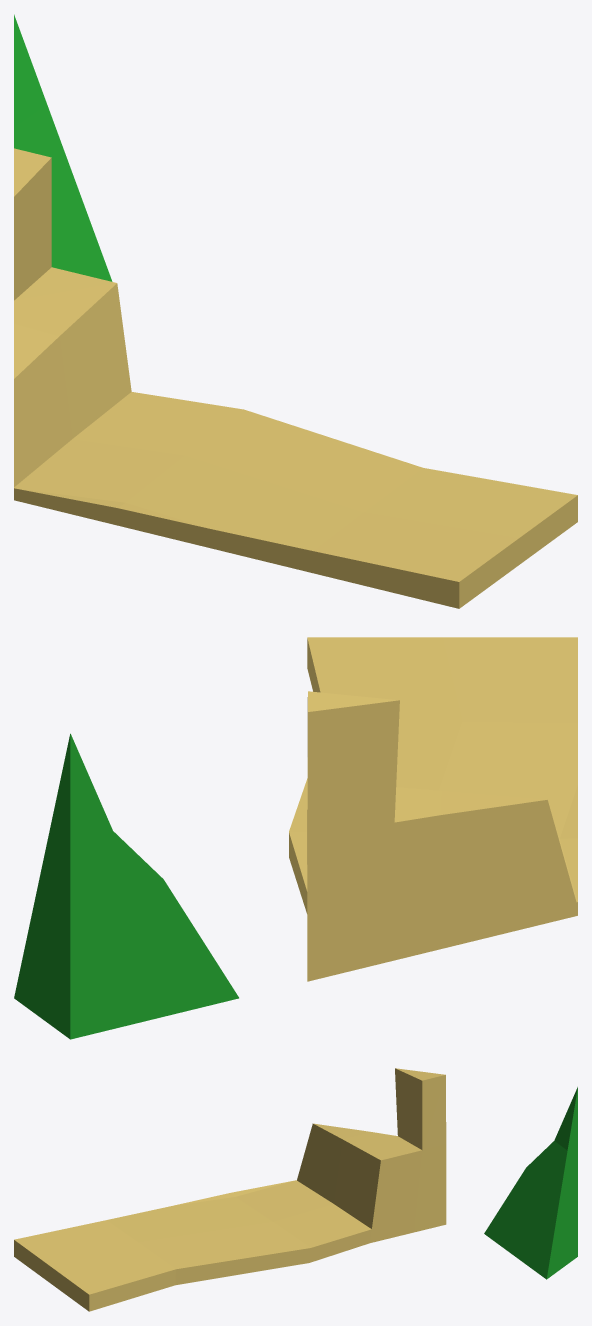
Rendered from module-corner_land_cliff_small_stairs_002.glb.
3 renders of one model, top to bottom at view 1: azimuth 30°, elevation 25°; view 2: azimuth 150°, elevation 25°; view 3: azimuth 270°, elevation 25°, orthographic. The views are drawn at different scales.
Visible parts, largest first — view 1: module-corner_land_cliff_small_stairs_002; view 2: module-corner_land_cliff_small_stairs_002; view 3: module-corner_land_cliff_small_stairs_002.
Boxes of the visible parts, bbox=[...] form: module-corner_land_cliff_small_stairs_002: bbox=[14, 14, 577, 608]; module-corner_land_cliff_small_stairs_002: bbox=[14, 637, 577, 1039]; module-corner_land_cliff_small_stairs_002: bbox=[14, 1068, 577, 1311].
Bounding box in the file's own units: 0.3897 × 0.25 × 0.75.
